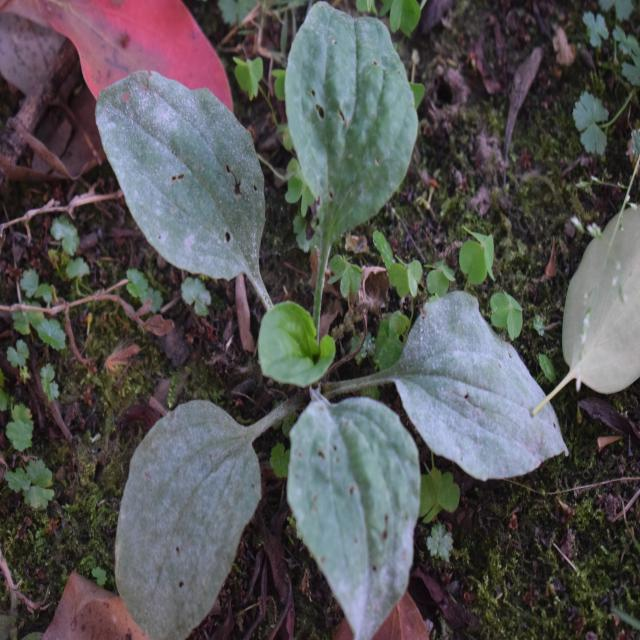plantain: (119, 28, 561, 603)
